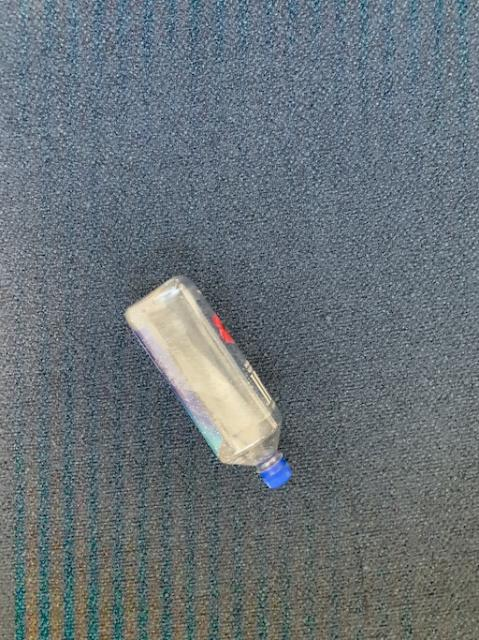plastic: (125, 275, 290, 486)
